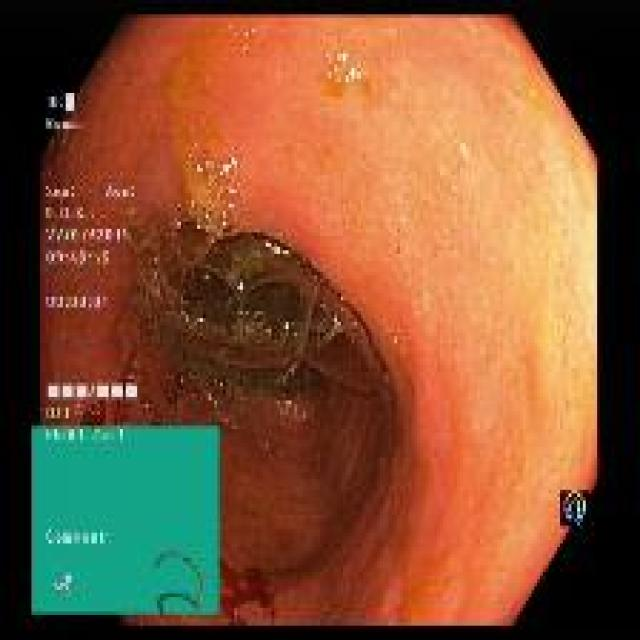ulcerative-colitis: (42, 17, 598, 623)
